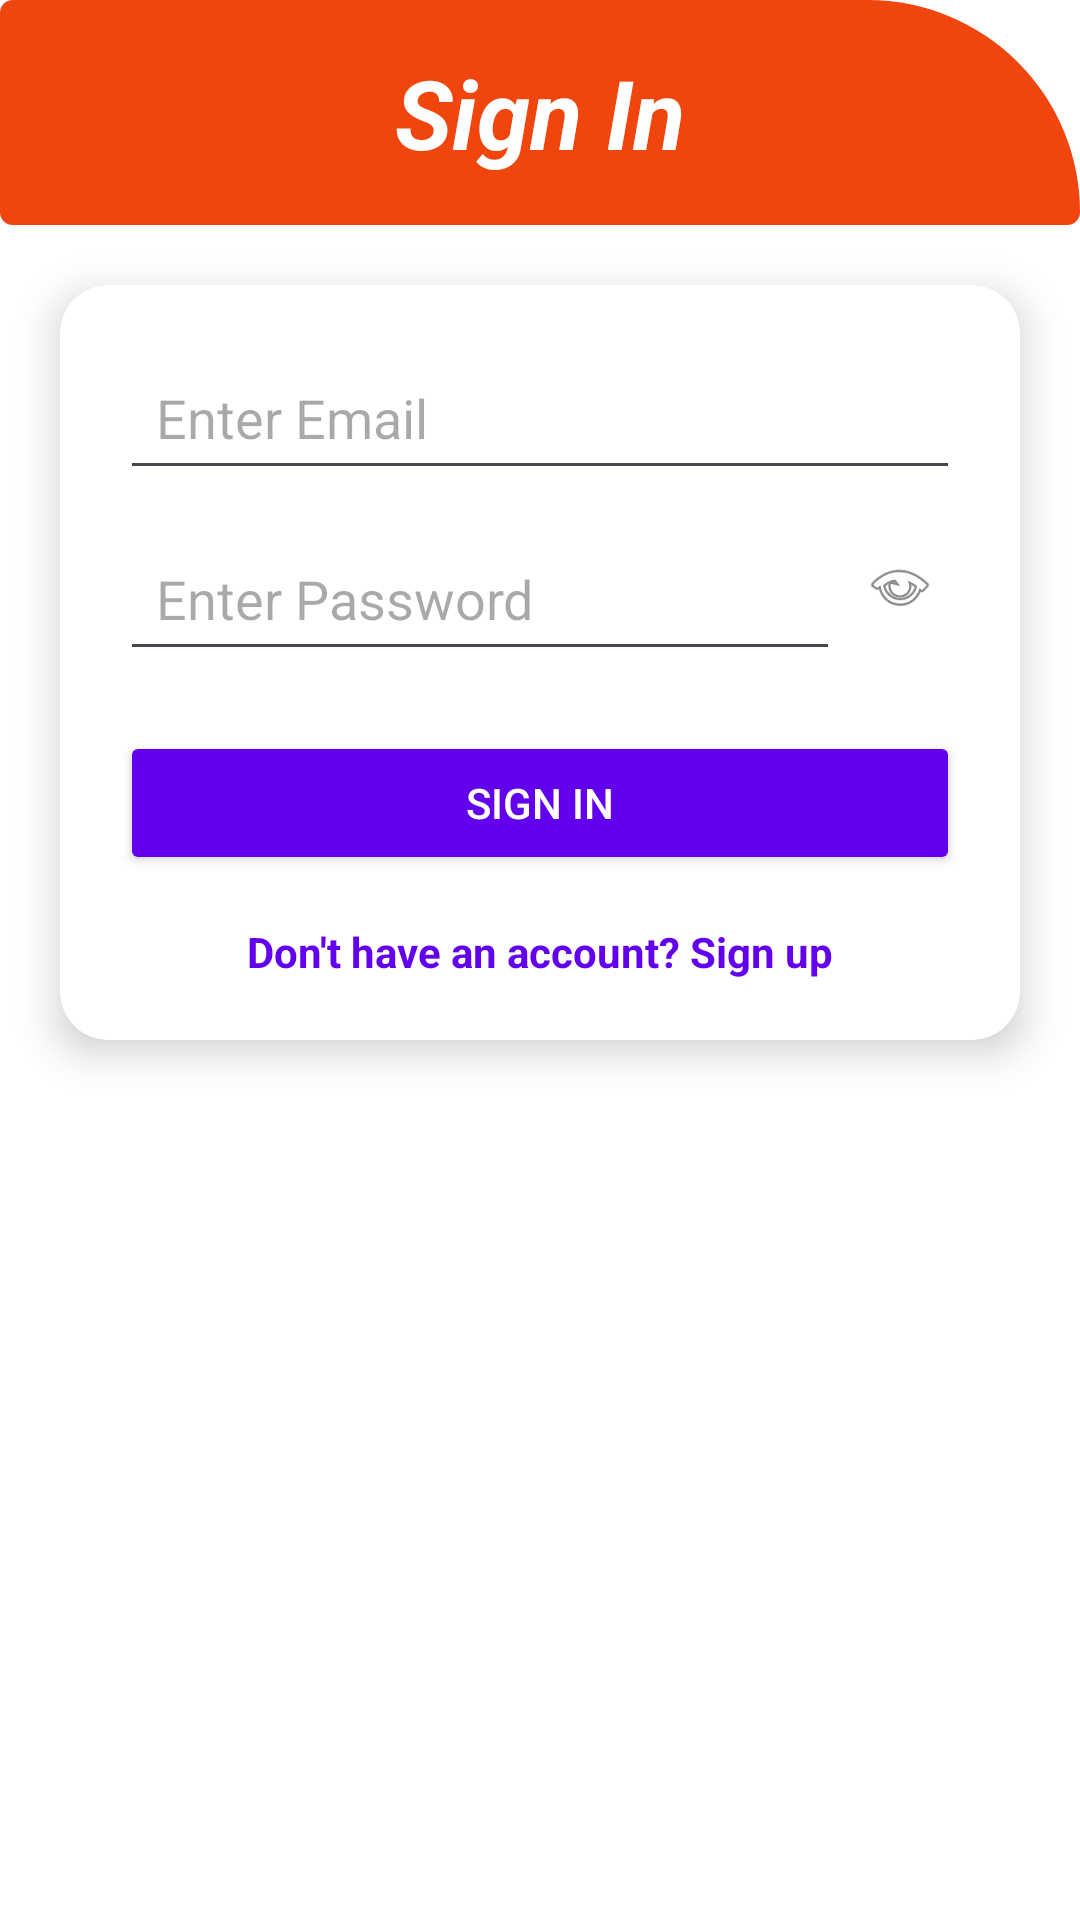

Icons on this 1080 x 1920 Android screen, each with the point to tap as (x=x, y=y):
Show Password: (x=900, y=587)
